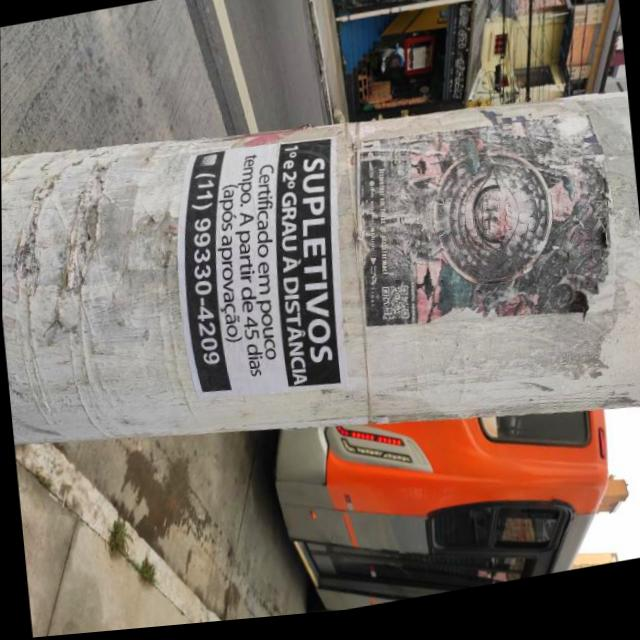qrcode: (378, 292, 411, 332)
